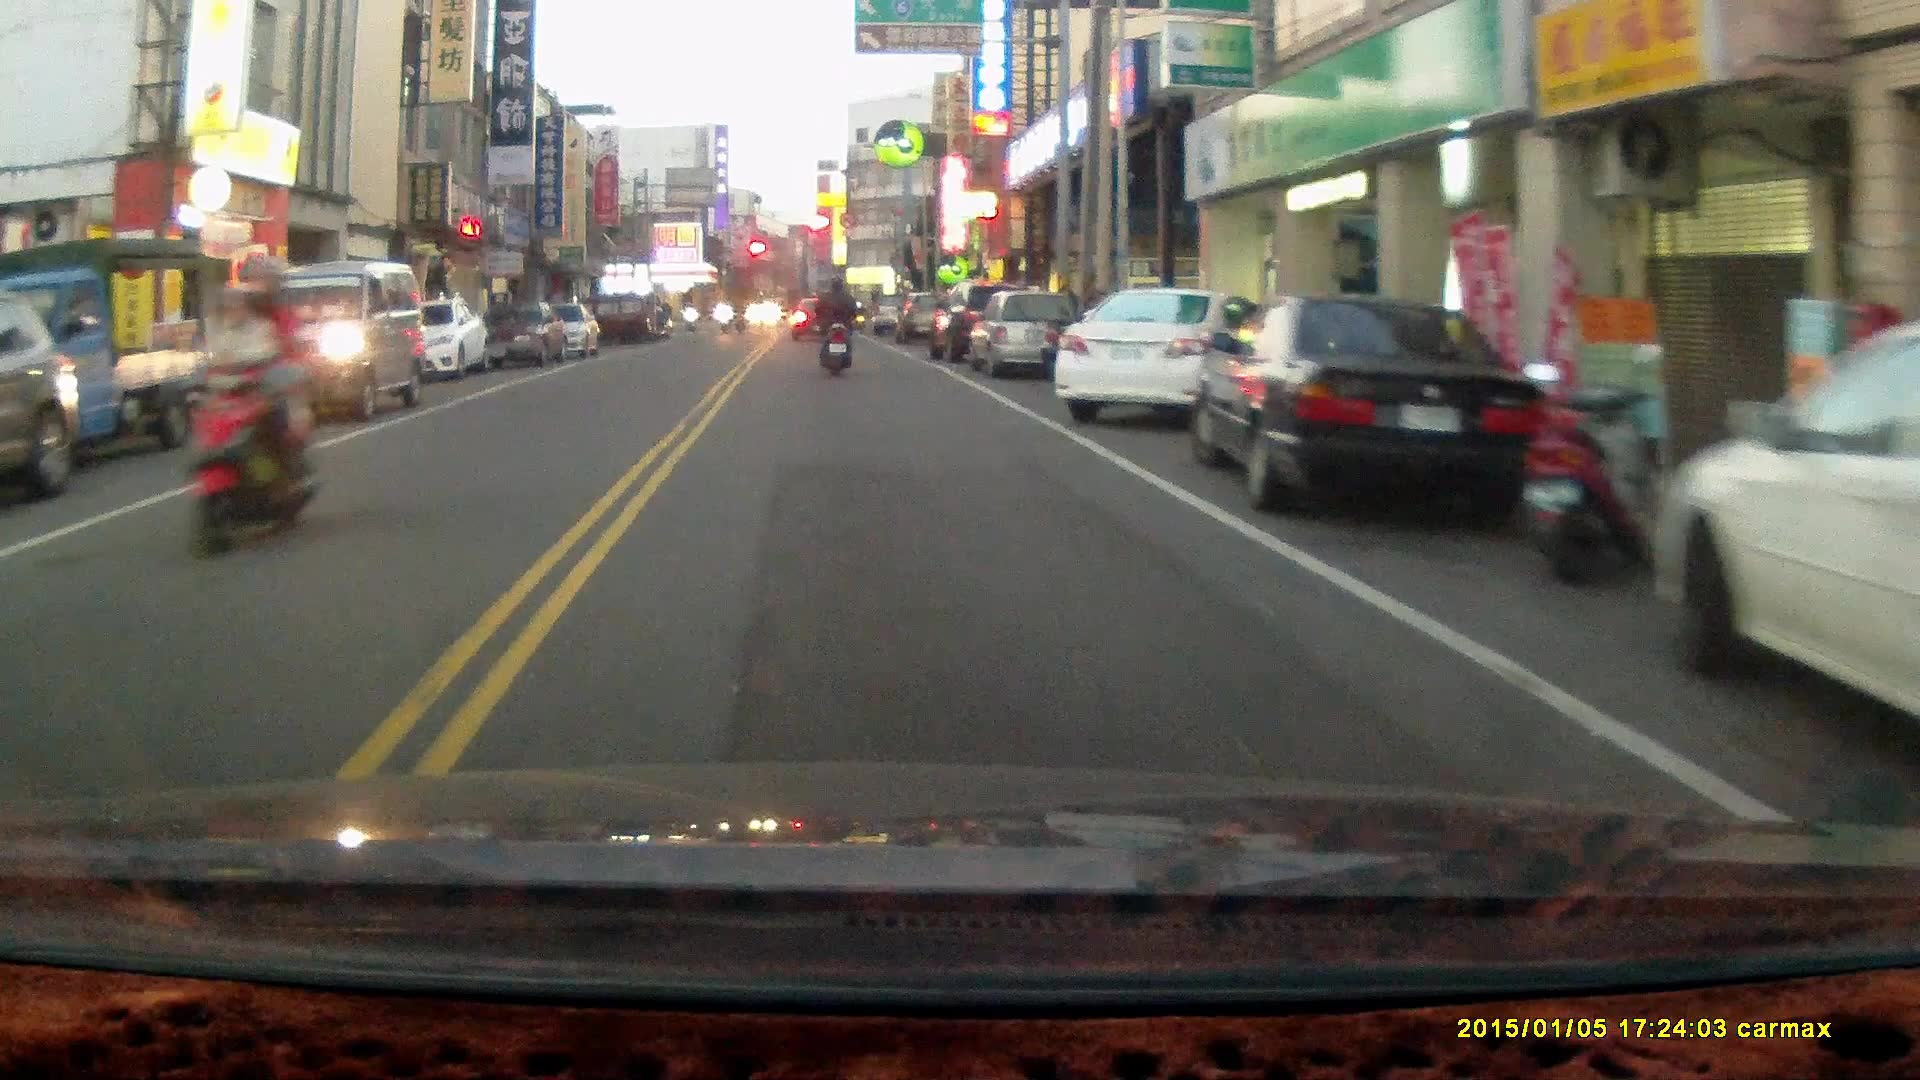rider: (177, 250, 327, 558), (811, 270, 858, 375)
vehicle: (1649, 299, 1920, 782), (1186, 296, 1550, 521), (5, 235, 238, 491), (242, 262, 428, 421), (1052, 284, 1259, 422), (1, 285, 87, 511), (961, 286, 1081, 380), (372, 297, 487, 386)
